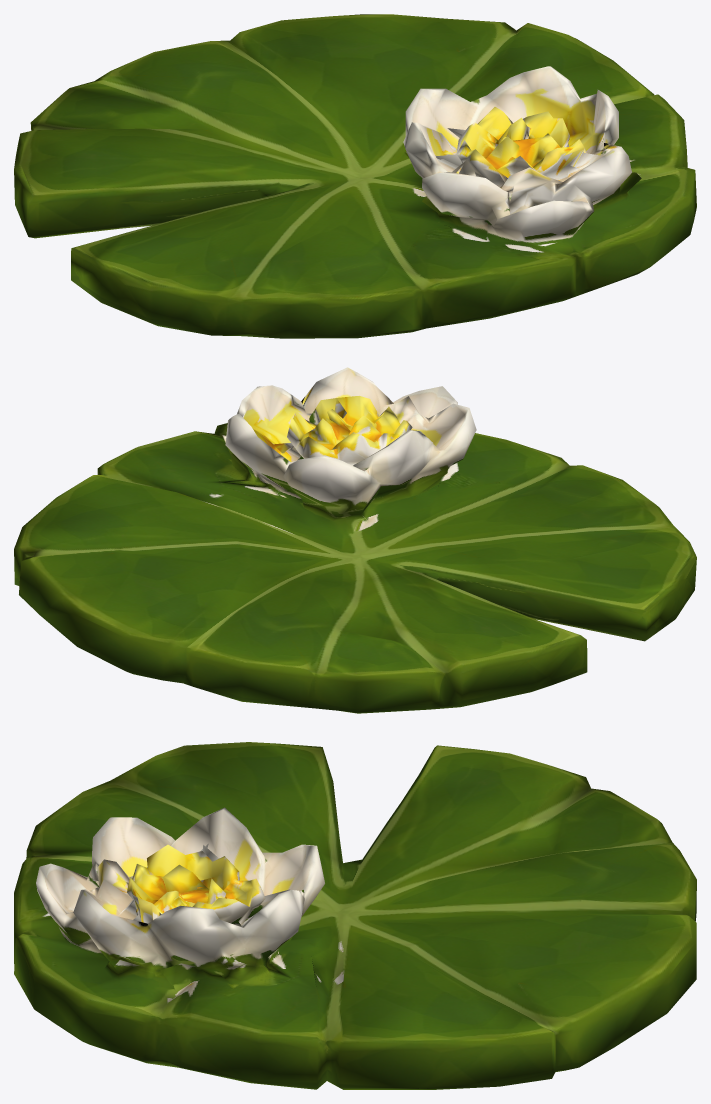
Rendered from nenufar_2.glb.
3 views of the same model, one above another, from view 1: azimuth 30°, elevation 25°; view 2: azimuth 150°, elevation 25°; view 3: azimuth 270°, elevation 25° (orthographic). The views are drawn at different scales.
Visible parts, largest first — view 1: nenufar_2; view 2: nenufar_2; view 3: nenufar_2.
Part boxes in pixels (x1=…): nenufar_2: x1=14, y1=14, x2=696, y2=338; nenufar_2: x1=14, y1=367, x2=696, y2=713; nenufar_2: x1=14, y1=742, x2=696, y2=1089.
Bounding box in the file's own units: 1.5 × 0.3 × 1.4.
1 material, 1 textured.
